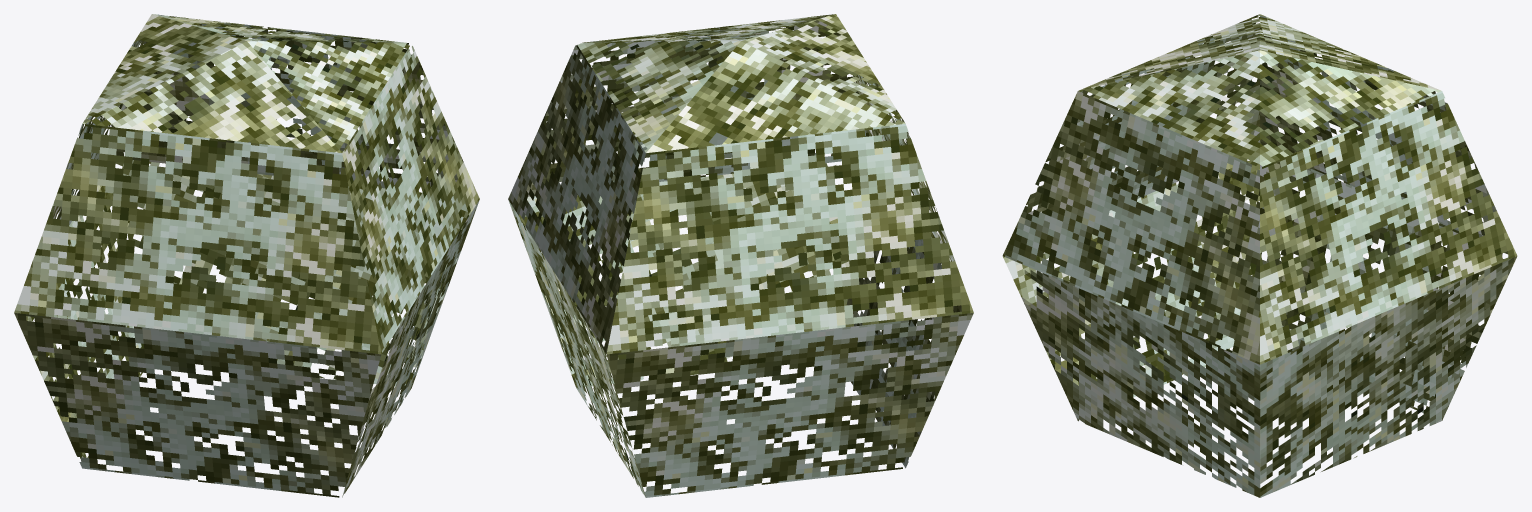
File: bush_end_winter.glb
3 renders of one model, left to right at view 1: azimuth 30°, elevation 25°; view 2: azimuth 150°, elevation 25°; view 3: azimuth 270°, elevation 25°, orthographic. The views are drawn at different scales.
Parts seen in each view (by area): view 1: bush_end_winter; view 2: bush_end_winter; view 3: bush_end_winter.
Boxes of the visible parts, <box> form: bush_end_winter: <box>14,14,479,497</box>; bush_end_winter: <box>508,14,973,497</box>; bush_end_winter: <box>1002,14,1517,497</box>.
Bounding box in the file's own units: 1.39 × 1.1 × 1.39.
1 material, 1 textured.
